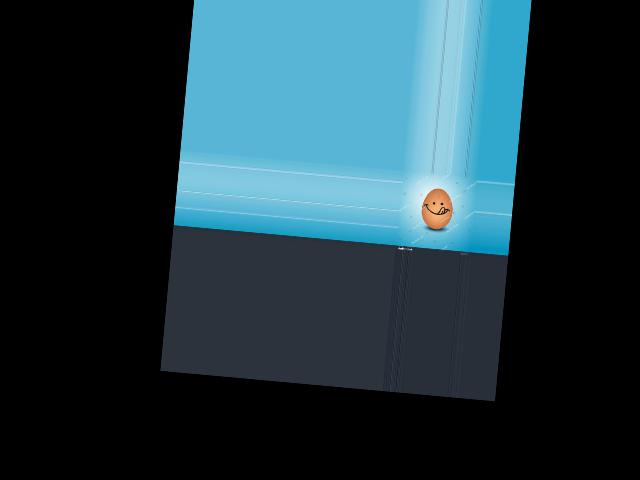egg: (420, 187, 455, 230)
